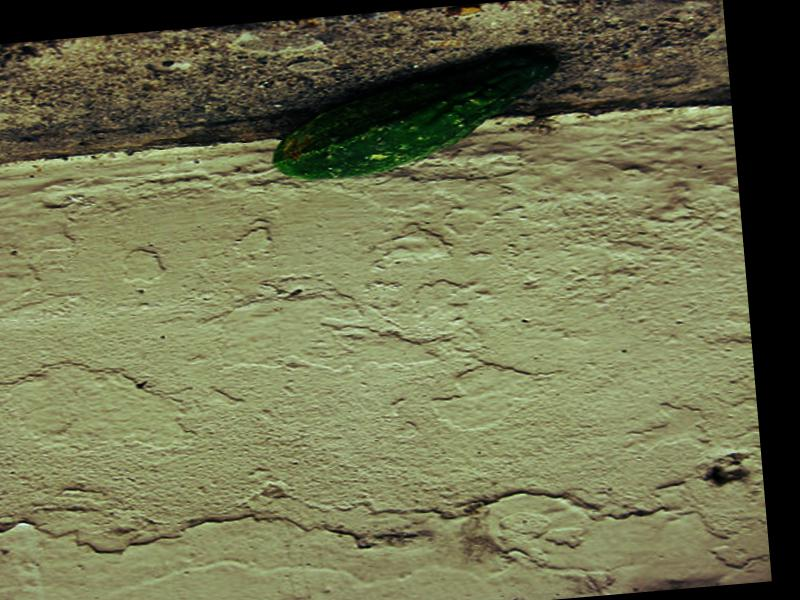Cucumber: (265, 47, 562, 184)
